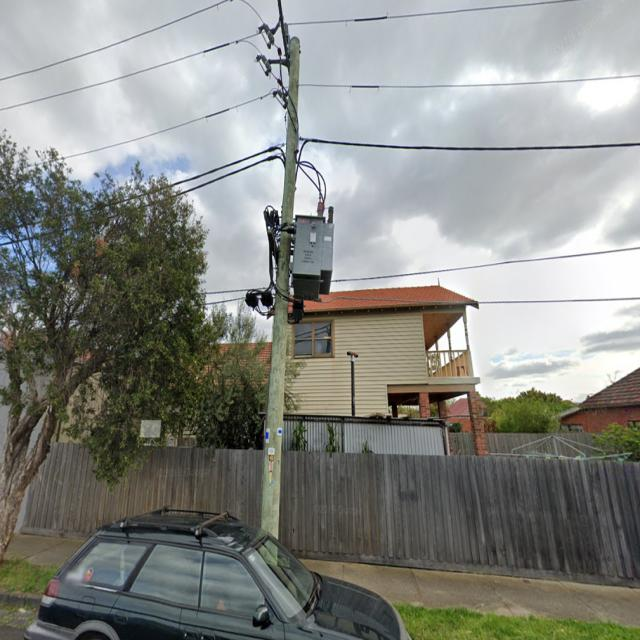HV-transmission: (254, 22, 291, 109)
LV link box: (245, 288, 274, 315), (287, 295, 305, 324)
crossarm: (278, 0, 290, 69), (266, 228, 279, 268)
timber-pole: (261, 36, 300, 541)
transformer: (285, 204, 335, 302)
